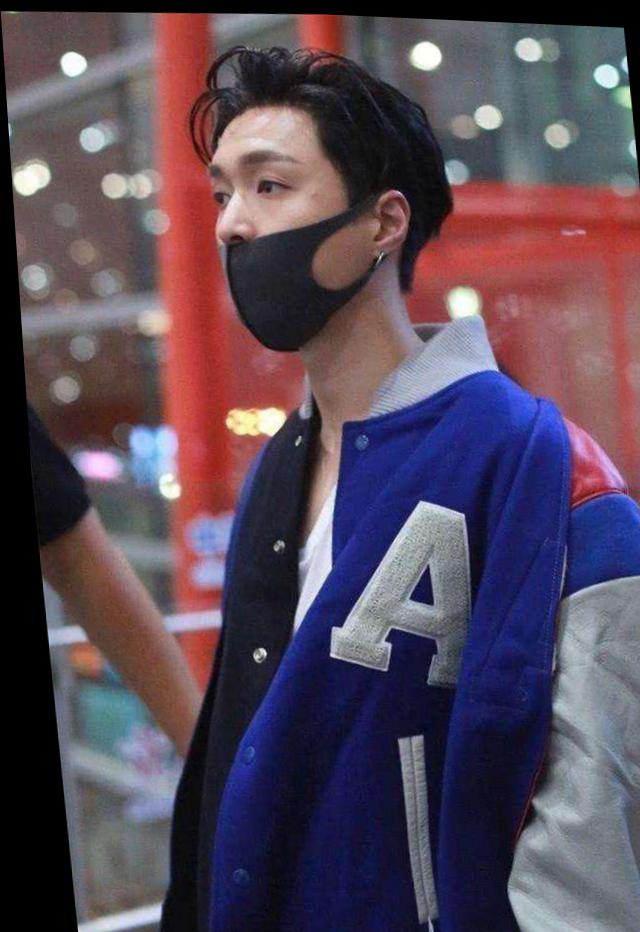WRONG: (202, 132, 355, 360)
